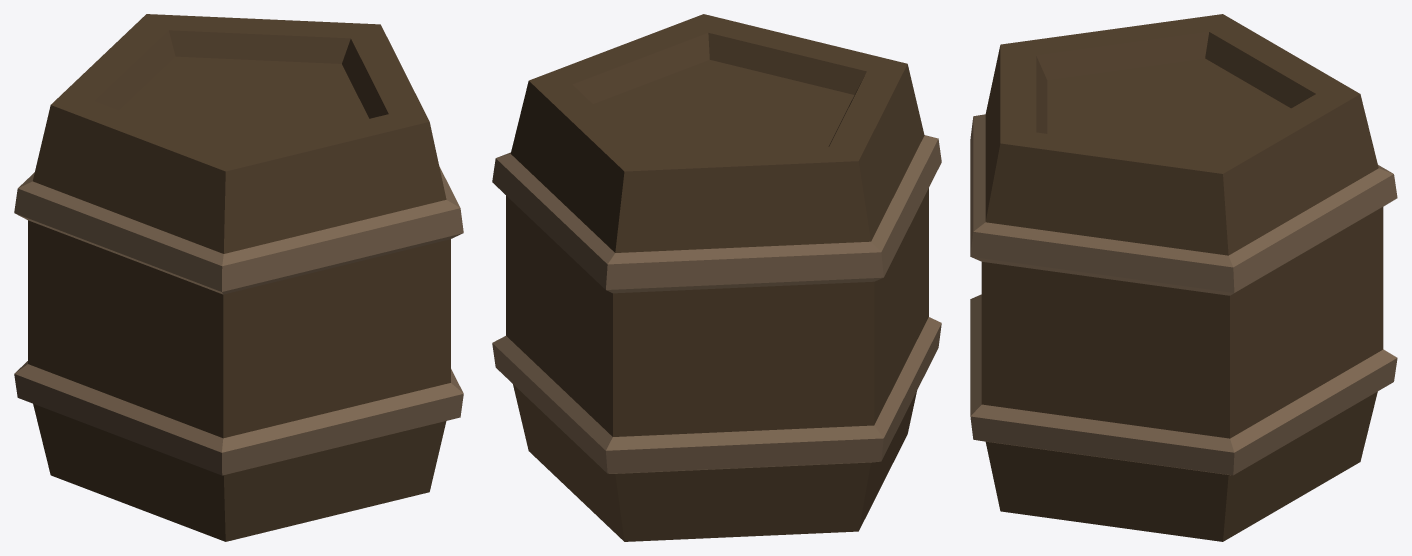
The picture shows the model from 3 angles, left to right: view 1: azimuth 30°, elevation 25°; view 2: azimuth 150°, elevation 25°; view 3: azimuth 270°, elevation 25°; orthographic projection.
Parts seen in each view (by area): view 1: Circle.001; view 2: Circle.001; view 3: Circle.001.
Boxes of the visible parts, bbox=[...] form: Circle.001: bbox=[14, 14, 463, 541]; Circle.001: bbox=[492, 14, 941, 541]; Circle.001: bbox=[970, 14, 1397, 541].
Size of the model in its own units: 27.07 by 24.47 by 25.75.
